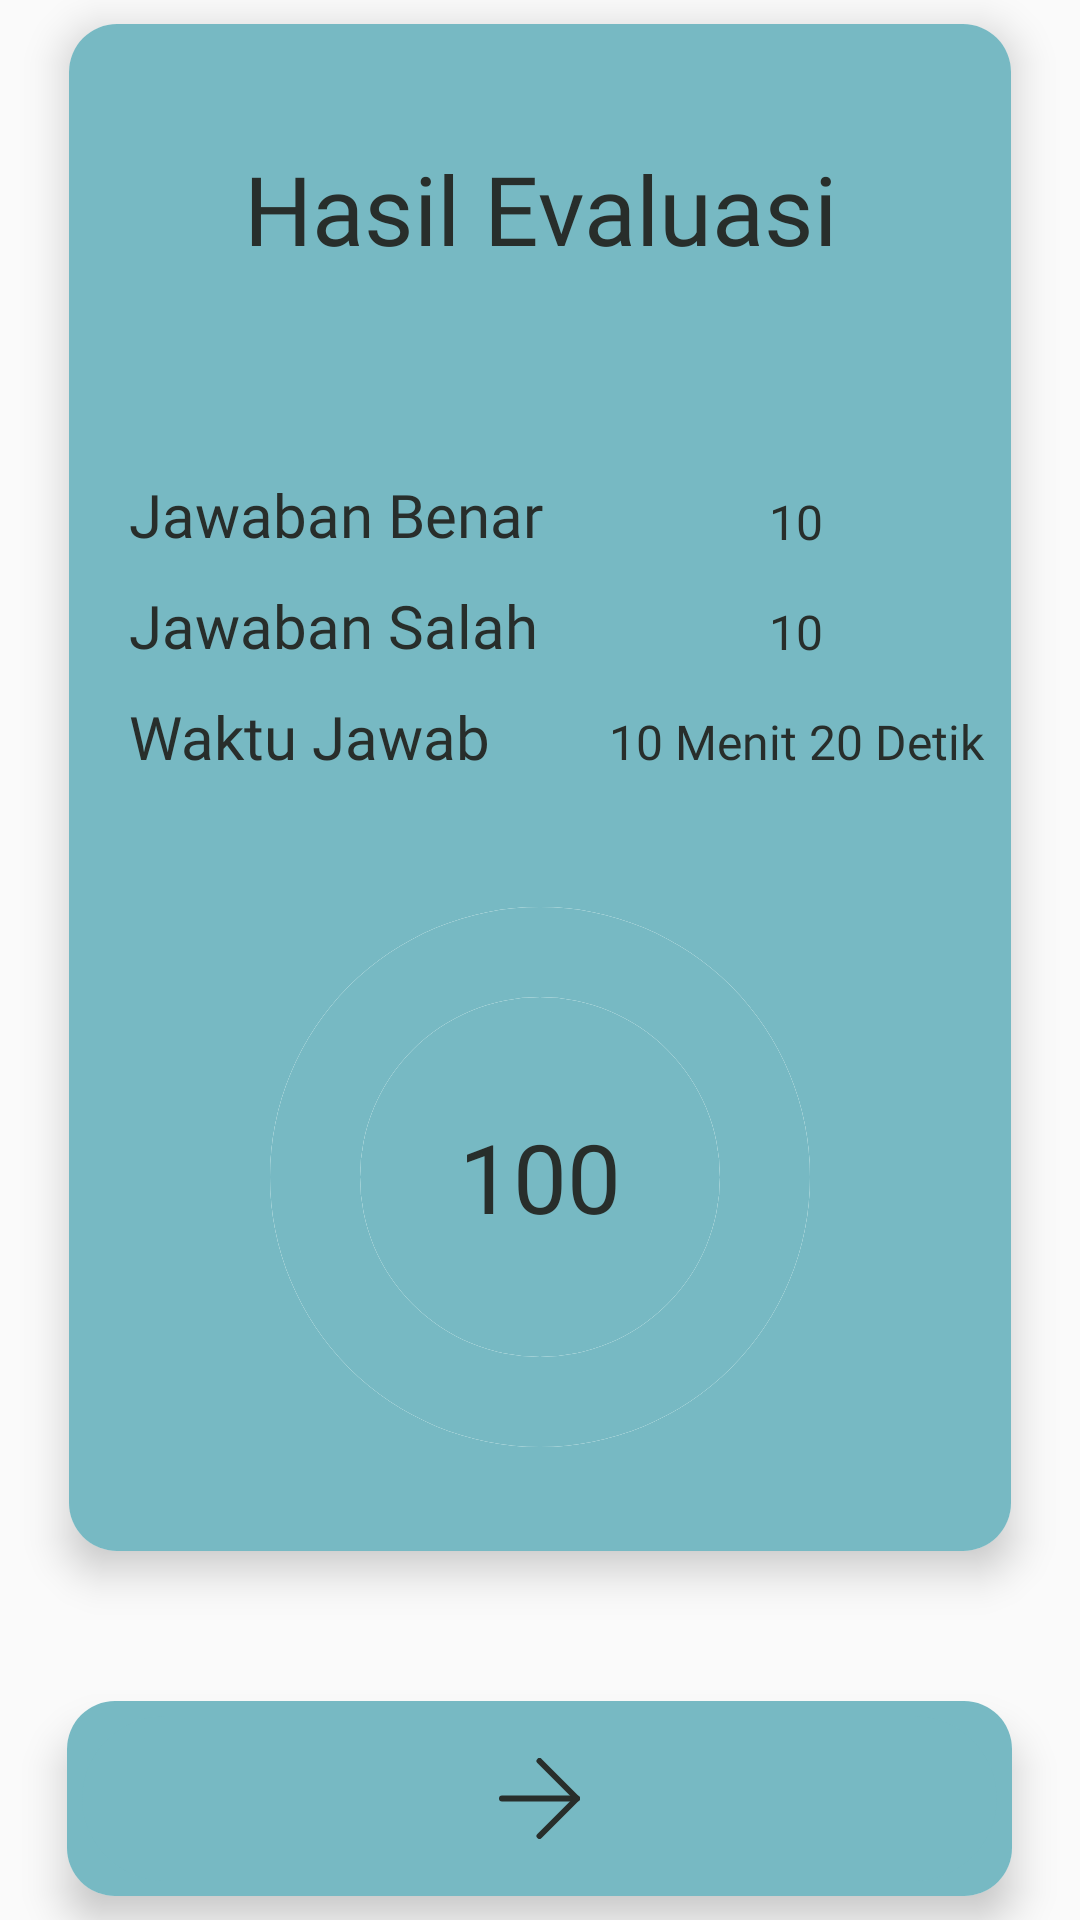

Icon click points for this 1080*1920 phone screenshot, format (x,y):
send: (539,1798)
